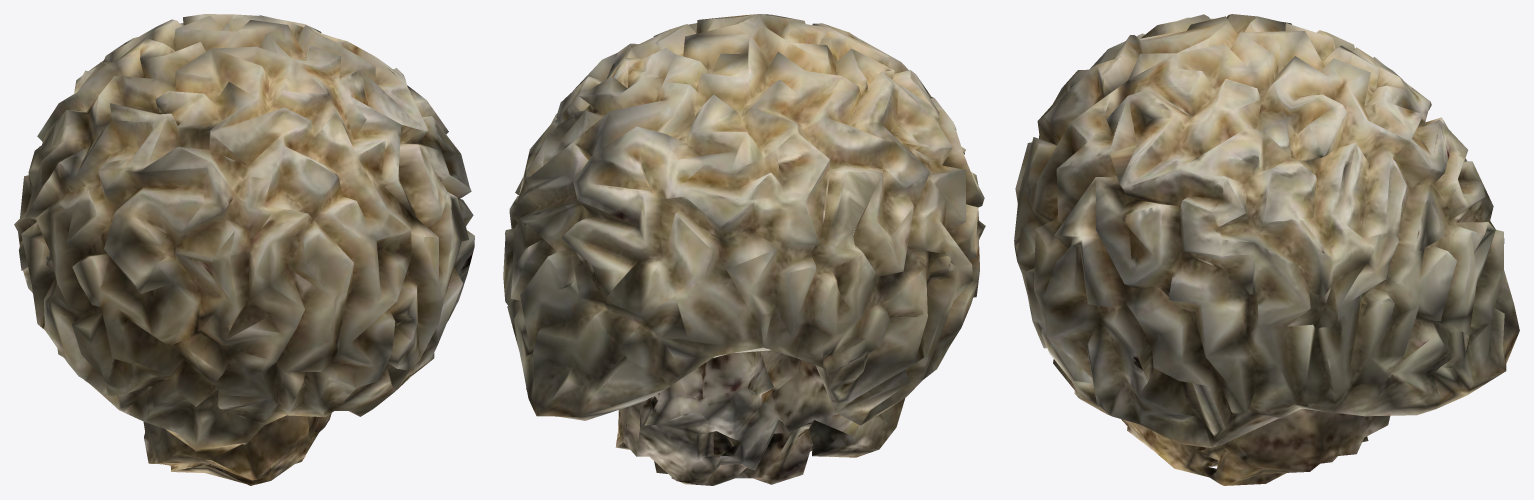
File: diploria_labyrinthiformis.glb
3 renders of one model, left to right at view 1: azimuth 30°, elevation 25°; view 2: azimuth 150°, elevation 25°; view 3: azimuth 270°, elevation 25°, orthographic. The views are drawn at different scales.
Parts seen in each view (by area): view 1: Object_4; view 2: Object_4; view 3: Object_4.
Boxes of the visible parts, x1,y1,x2,y2 form: Object_4: (14,14,474,485); Object_4: (503,14,985,485); Object_4: (1014,14,1519,485).
Bounding box in the file's own units: 0.0999 × 0.0997 × 0.107.
Materials: 1 (1 with a texture image).
